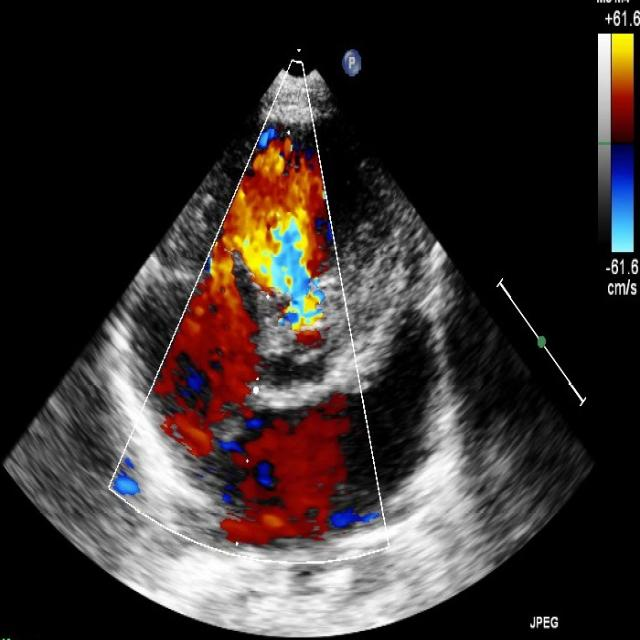VSDType2: (239, 222, 329, 348)
